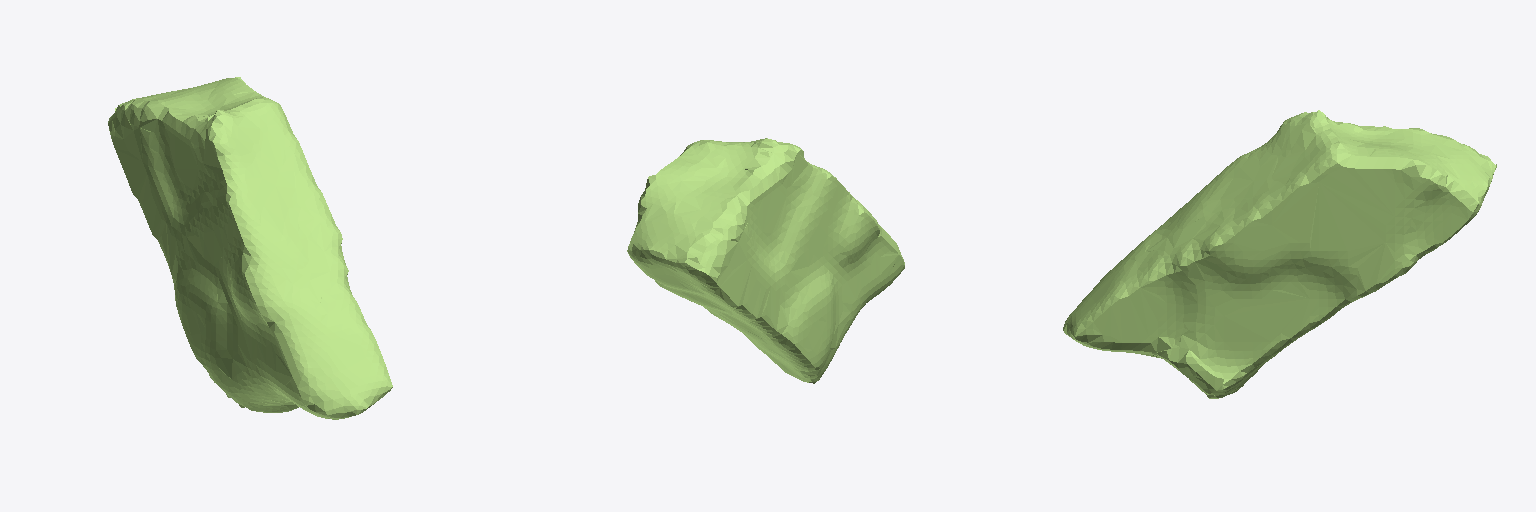
The model's file is Model_10133_LH__Temporal_area_TF__occipital_part_(TFO).obj.
3 views of the same model, side by side, from view 1: azimuth 30°, elevation 25°; view 2: azimuth 150°, elevation 25°; view 3: azimuth 270°, elevation 25° (orthographic).
Bounding box in the file's own units: 1.33 × 3.18 × 4.56.